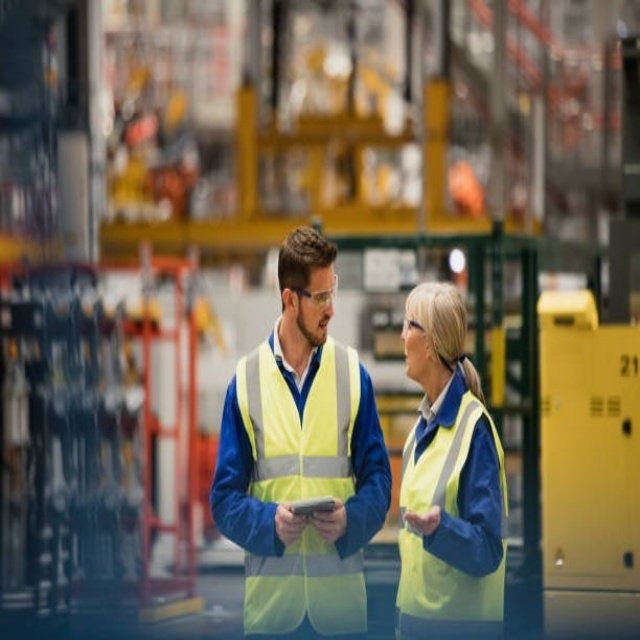Gafas: (292, 276, 339, 307), (406, 317, 427, 337)
Sin_guantes: (274, 501, 311, 547), (308, 504, 346, 546), (403, 504, 440, 537)
Sin_mascara: (402, 340, 422, 376), (312, 315, 333, 337)
